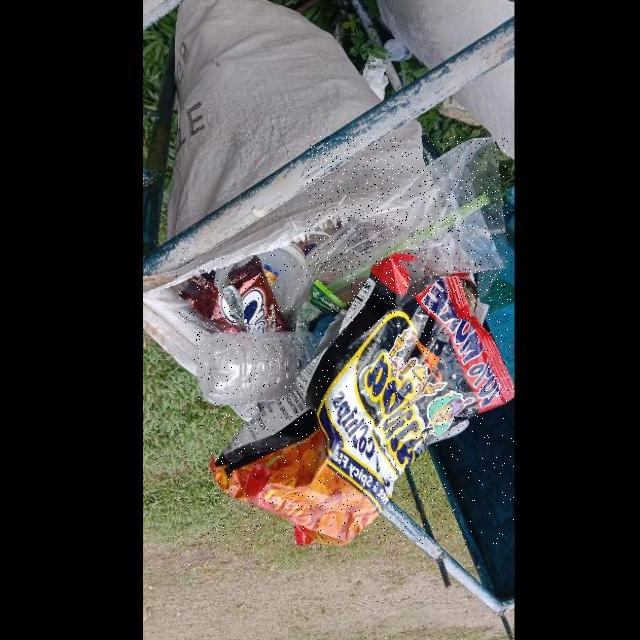plastic: (306, 136, 509, 304), (195, 331, 319, 406)
wrapper: (208, 255, 514, 545), (179, 255, 283, 334), (295, 279, 345, 332)
